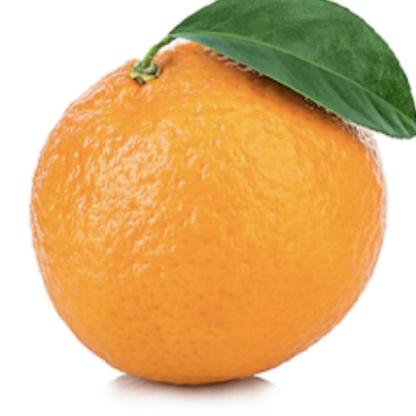fresh: (32, 37, 384, 388)
